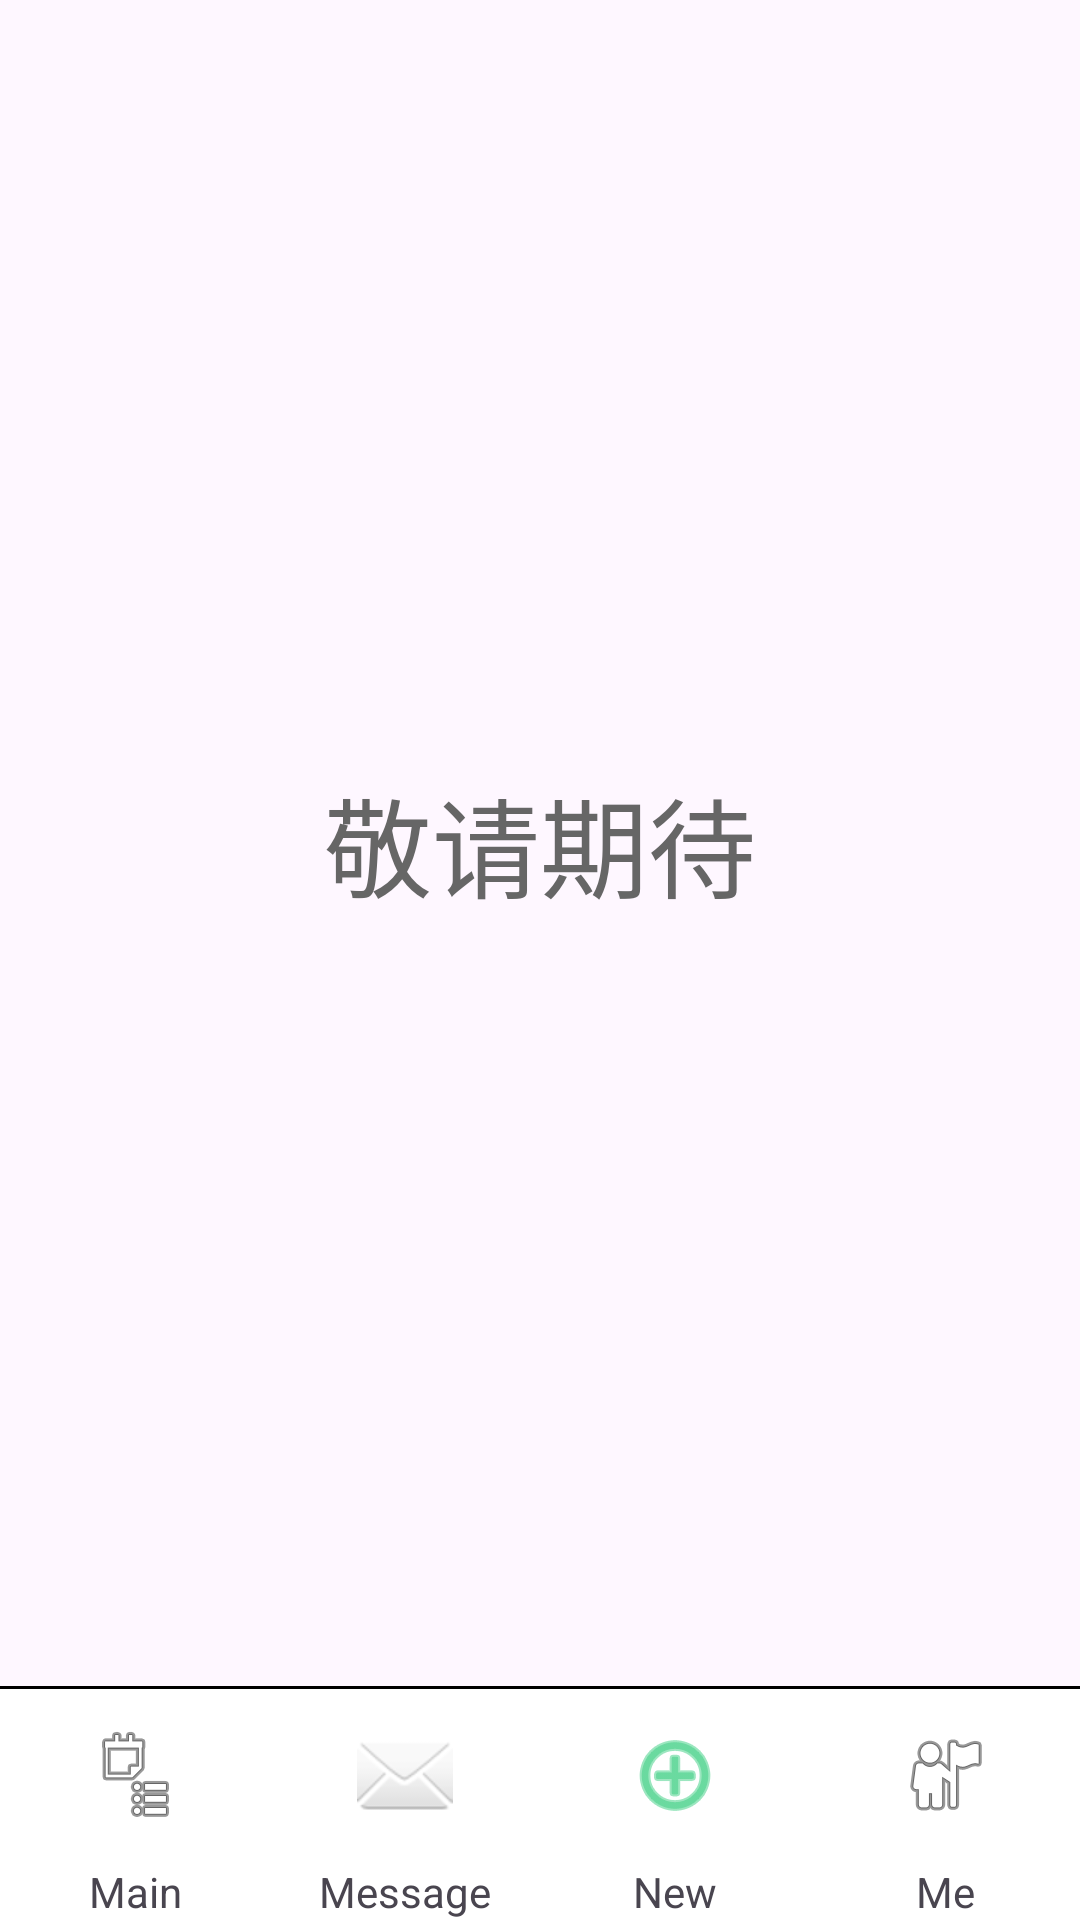

Where icons sit on this 1080*1920 app screen, as region(x1, y1, x2, y2):
add: region(639, 1740, 711, 1811)
agenda: region(102, 1732, 169, 1817)
email: region(357, 1744, 453, 1810)
myplaces: region(910, 1739, 982, 1811)
